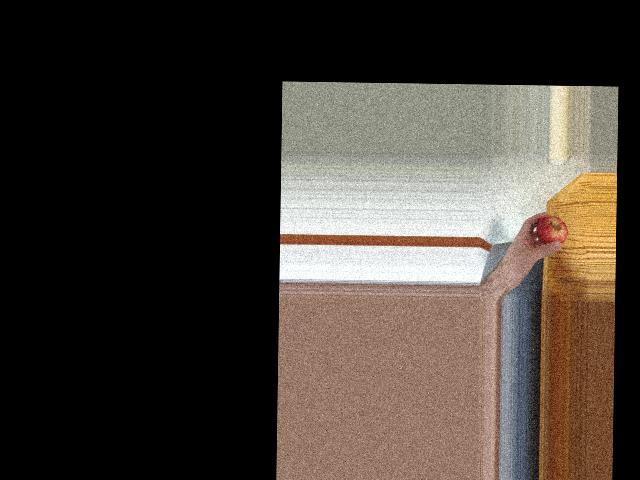apple: (535, 215, 568, 250)
